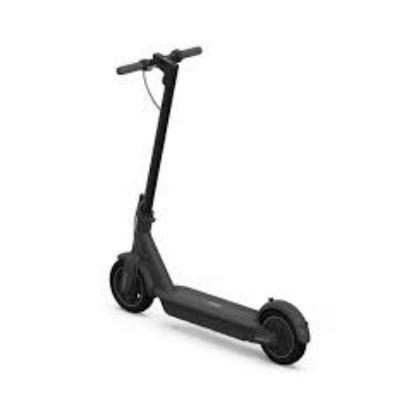bike: (109, 46, 312, 367)
